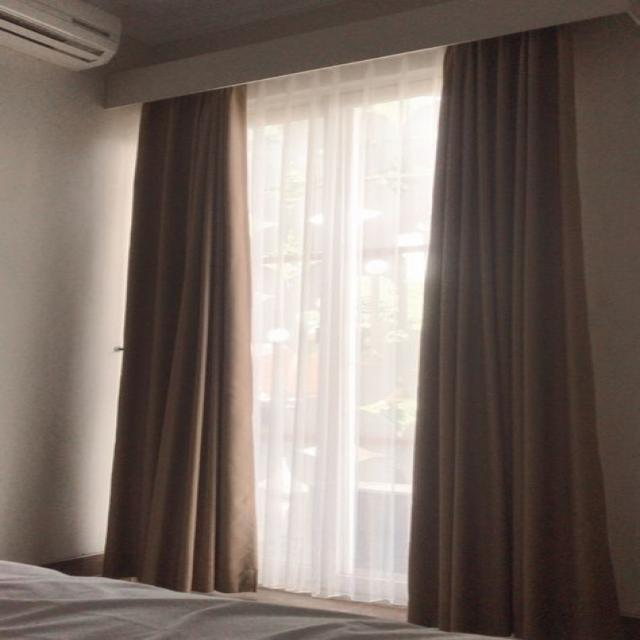AC: (0, 0, 122, 71)
